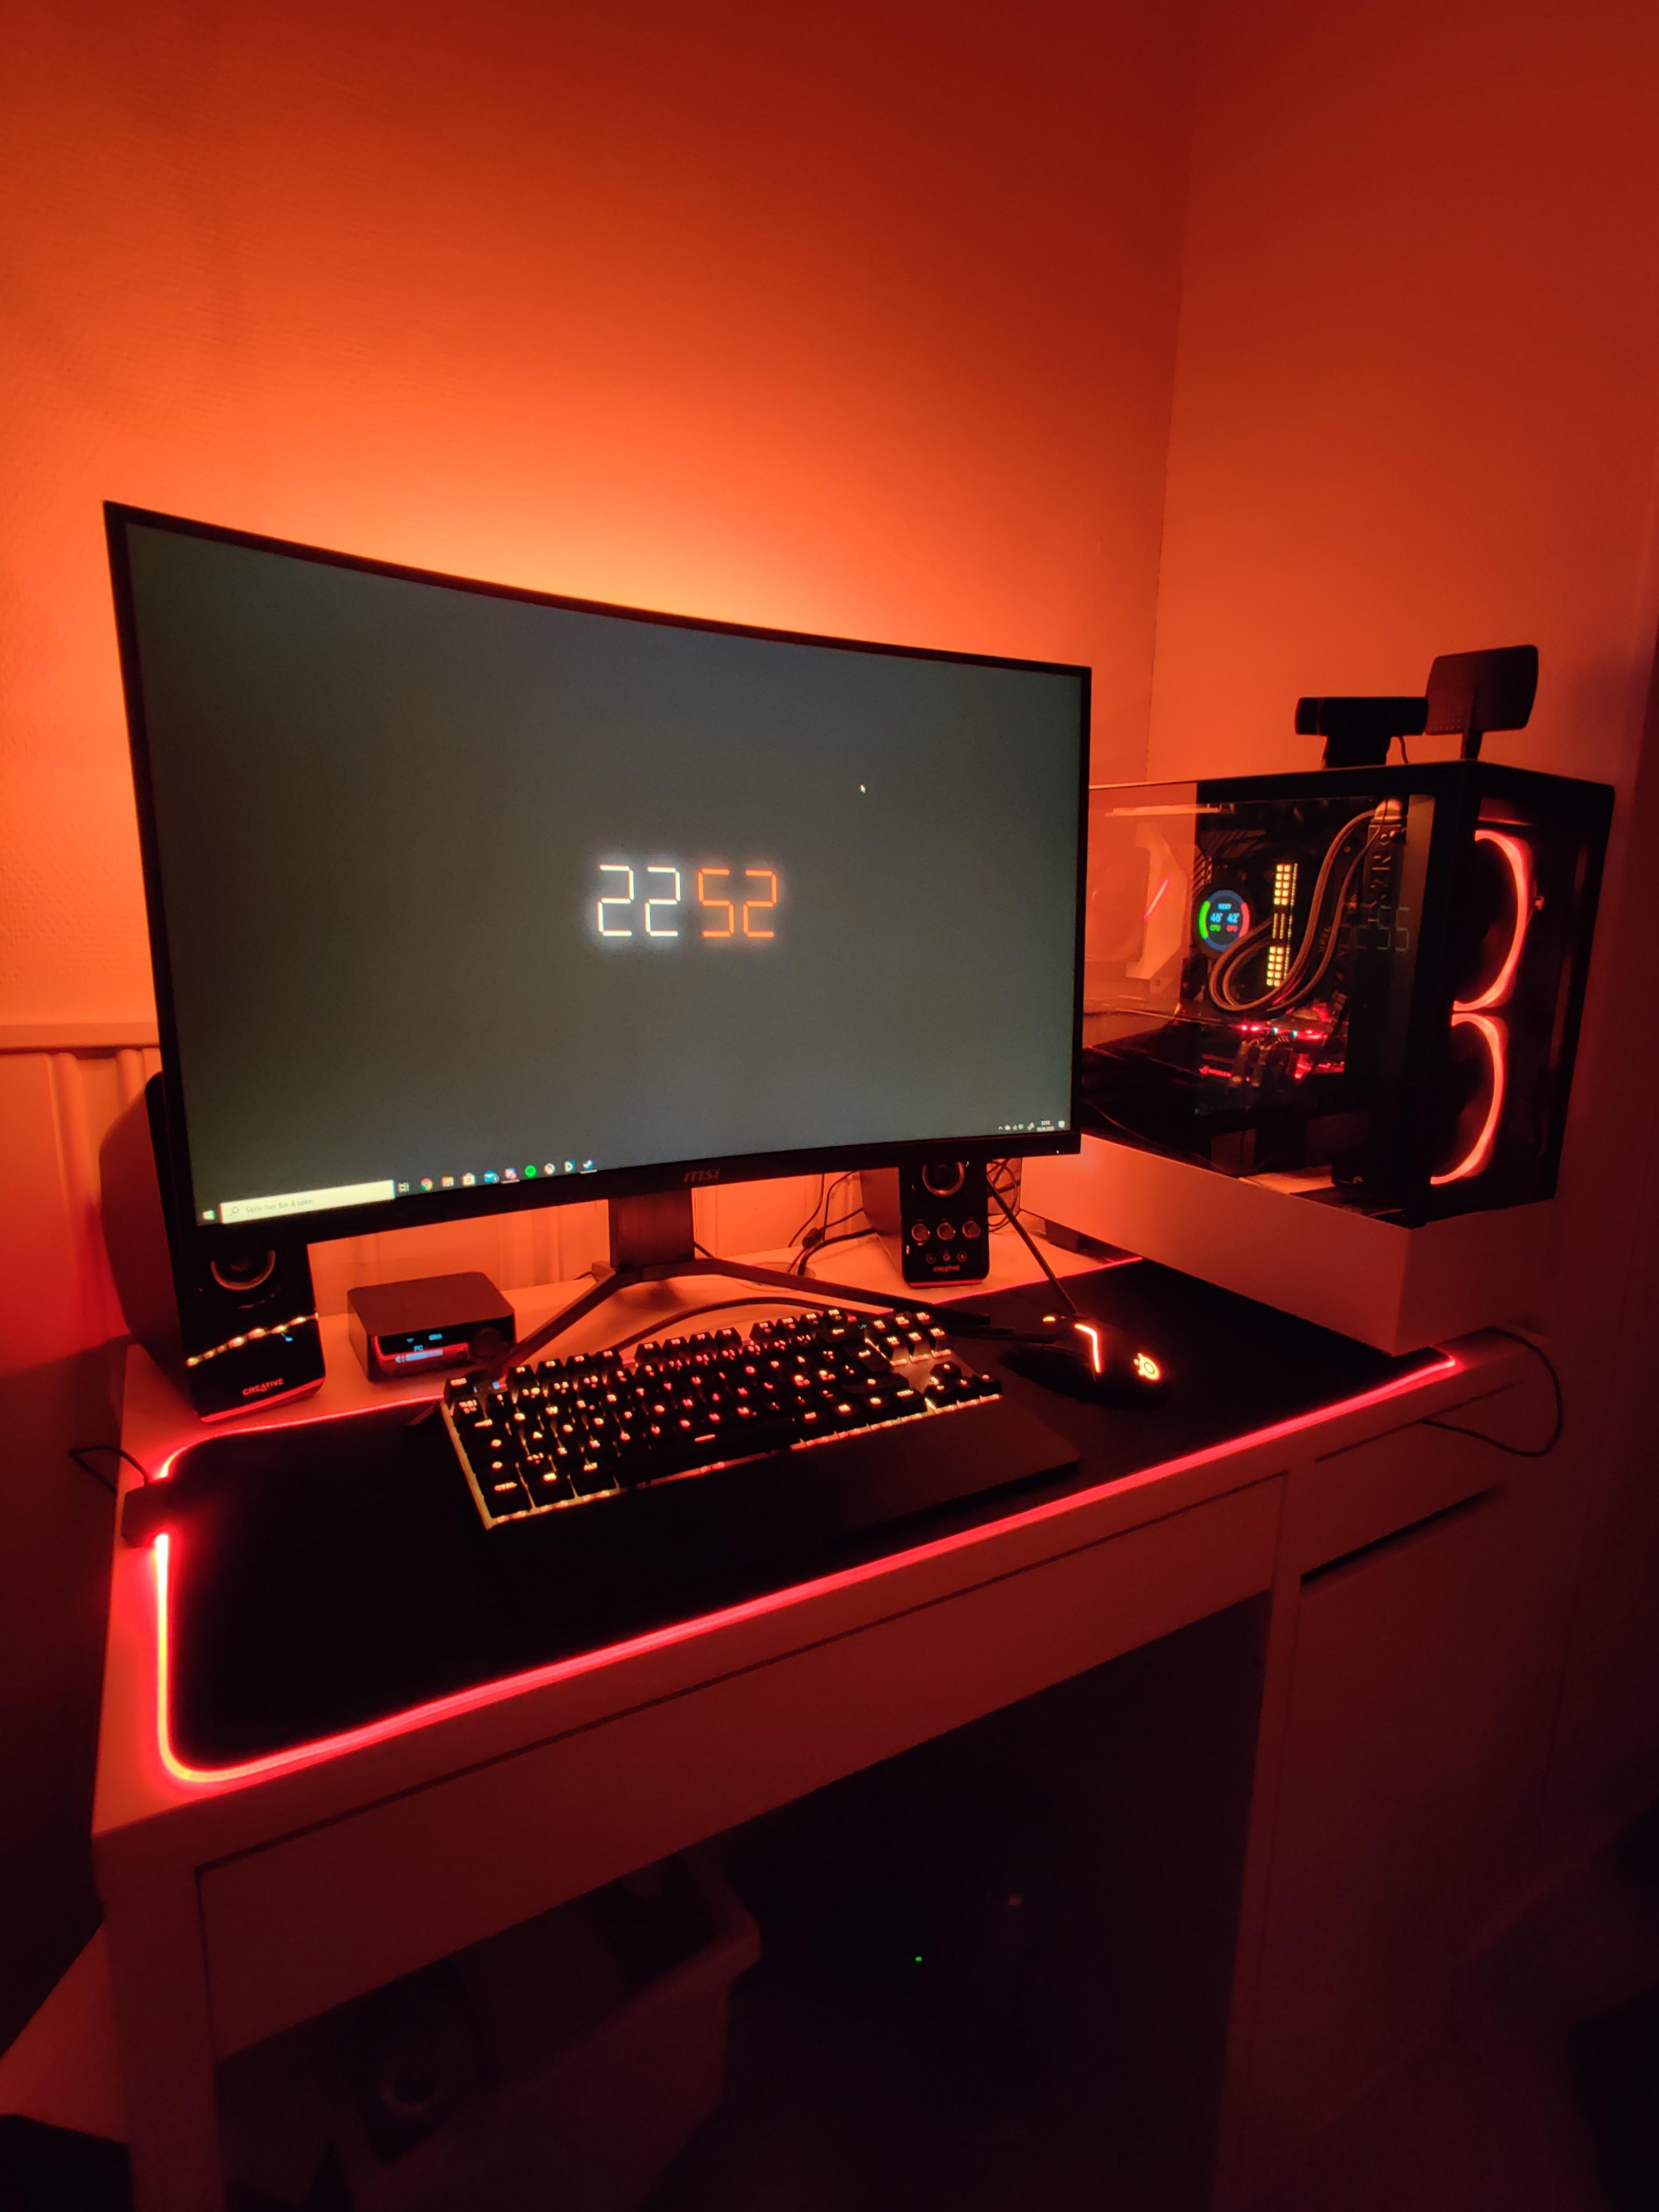Desk (Generic): (92, 1195, 1605, 2210)
Desktop (Windows): (1006, 761, 1624, 1359)
External Sound Card (Pre-amplifier): (349, 1256, 523, 1360)
External Speakers (Generic): (96, 1069, 340, 1444), (856, 1136, 997, 1287)
External Webcam: (1295, 695, 1431, 766)
Keyboard (Gaming): (411, 1306, 1087, 1597)
Monitor (Landscape): (99, 507, 1084, 1258)
Mouse (Gaming): (1009, 1301, 1178, 1425)
Mousepad (Gaming): (150, 1259, 1455, 1797)
Storage Drawer: (964, 1430, 1617, 2189)
